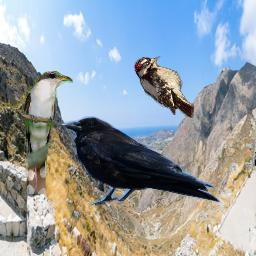Crow: (59, 116, 222, 206)
Cuckoo: (23, 70, 73, 194)
Woodpecker: (134, 56, 194, 118)
